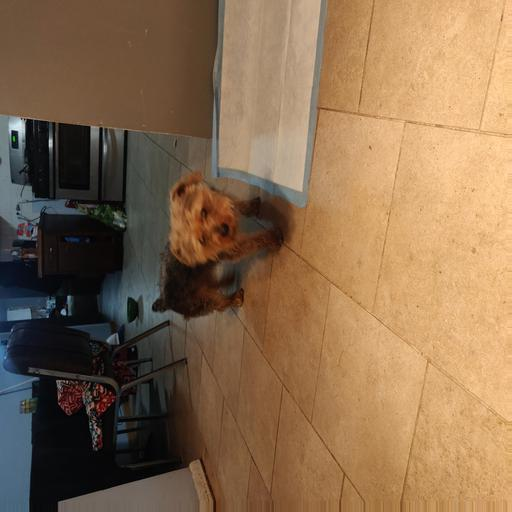dog: (135, 181, 275, 321)
